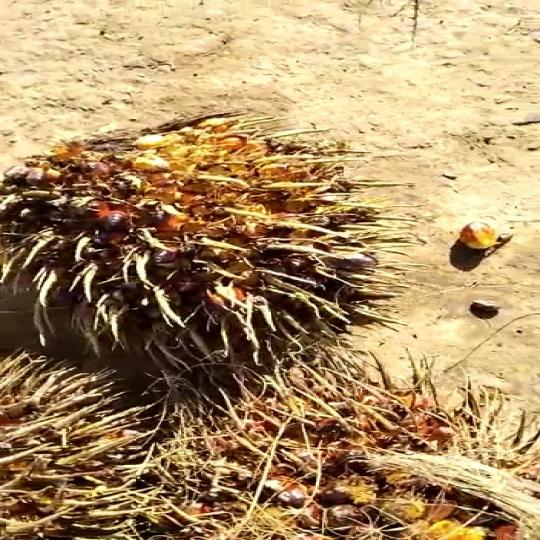terlalu masak: (0, 108, 452, 379)
